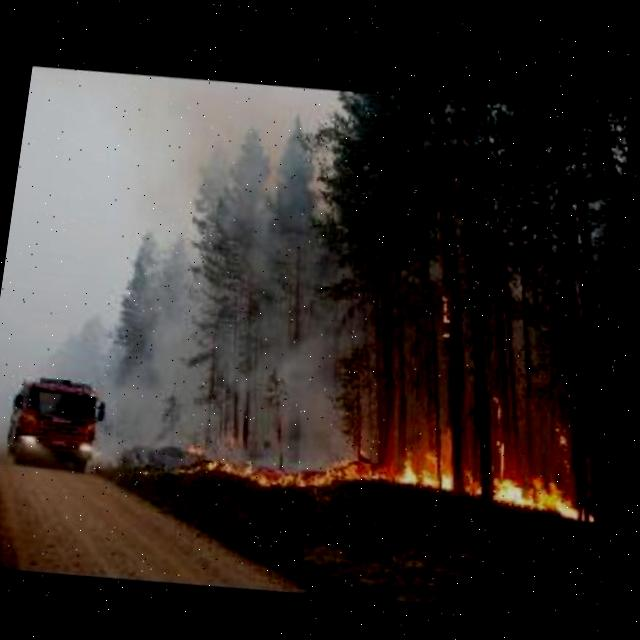fire: (153, 385, 623, 563), (549, 421, 579, 468), (493, 391, 515, 437)
